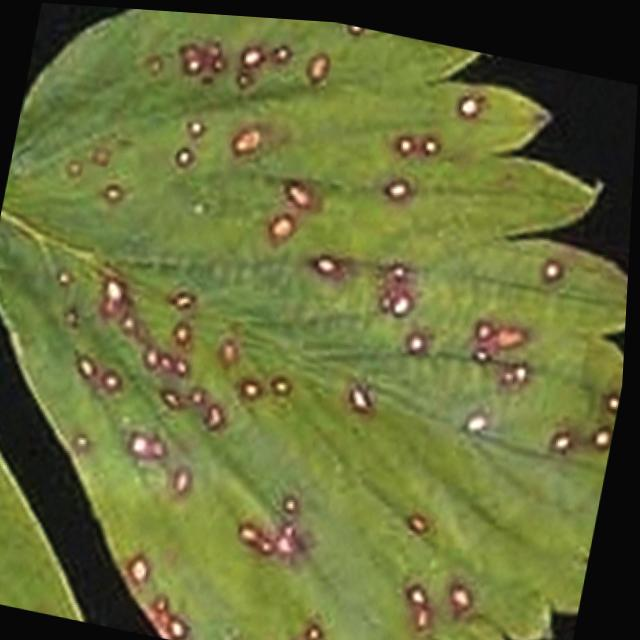Leaf Spot: (0, 7, 631, 640)
